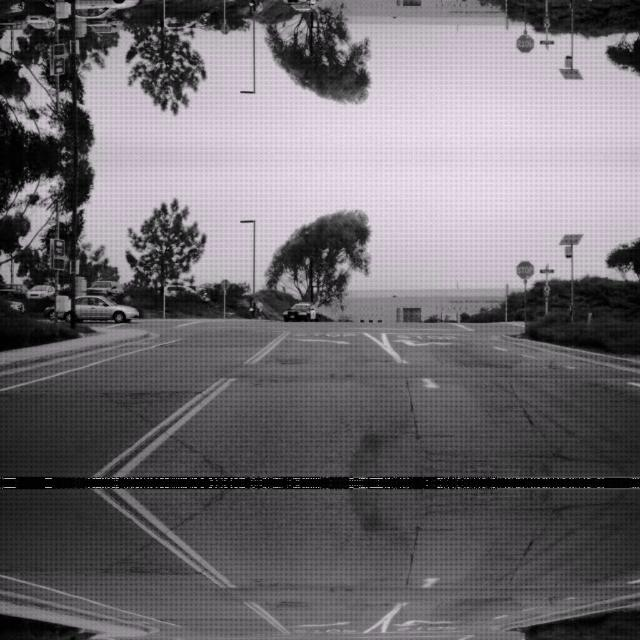stop: (515, 259, 535, 279), (515, 33, 535, 53)
